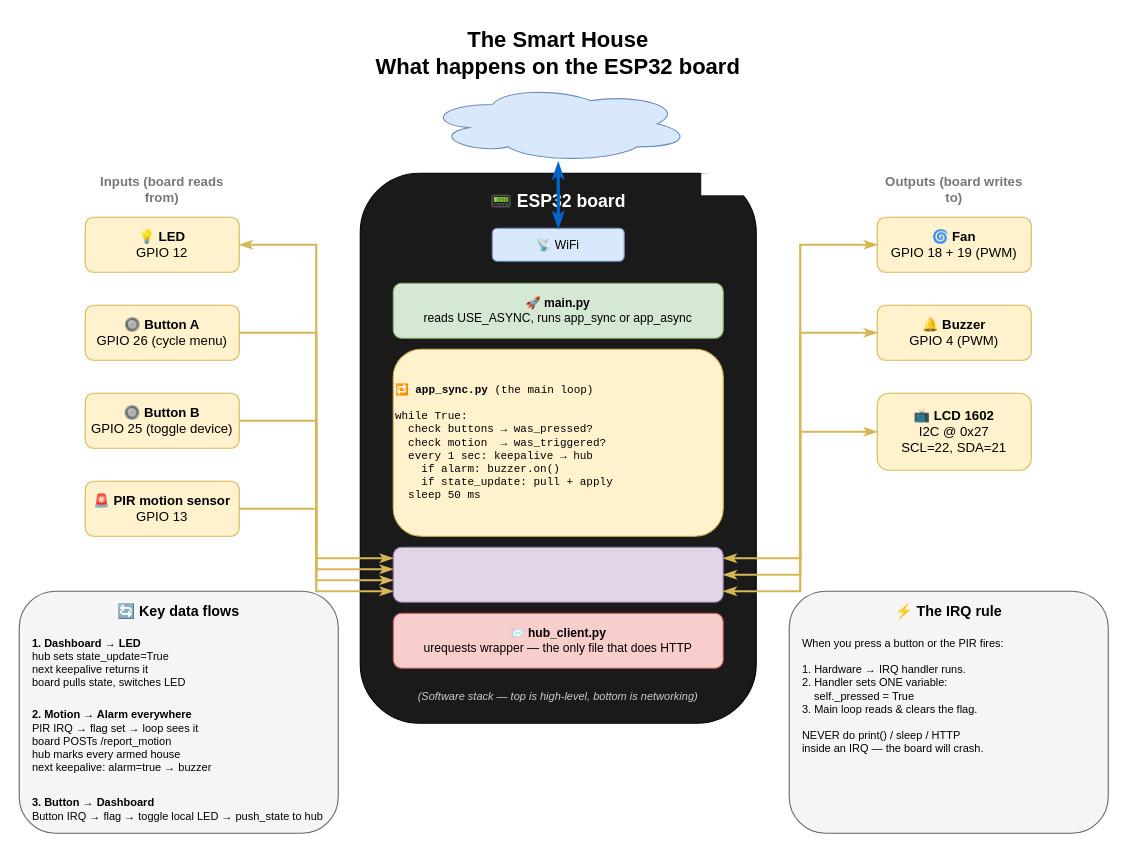
The diagram is 1128 pixels wide and 862 high, and some of its shapes have lost their labels. The shapes that lost their labels are listed below. From the top down, each one's centre as x and y in pixels, then its label:
At (557,123): "☁️ IoT Hub Flask on the counsellor's laptop".
At (761,184): "HTTP over WiFi".
At (557,574): "📦 devices/ LED · Button · Motion · Fan · Buzzer · LCD".
